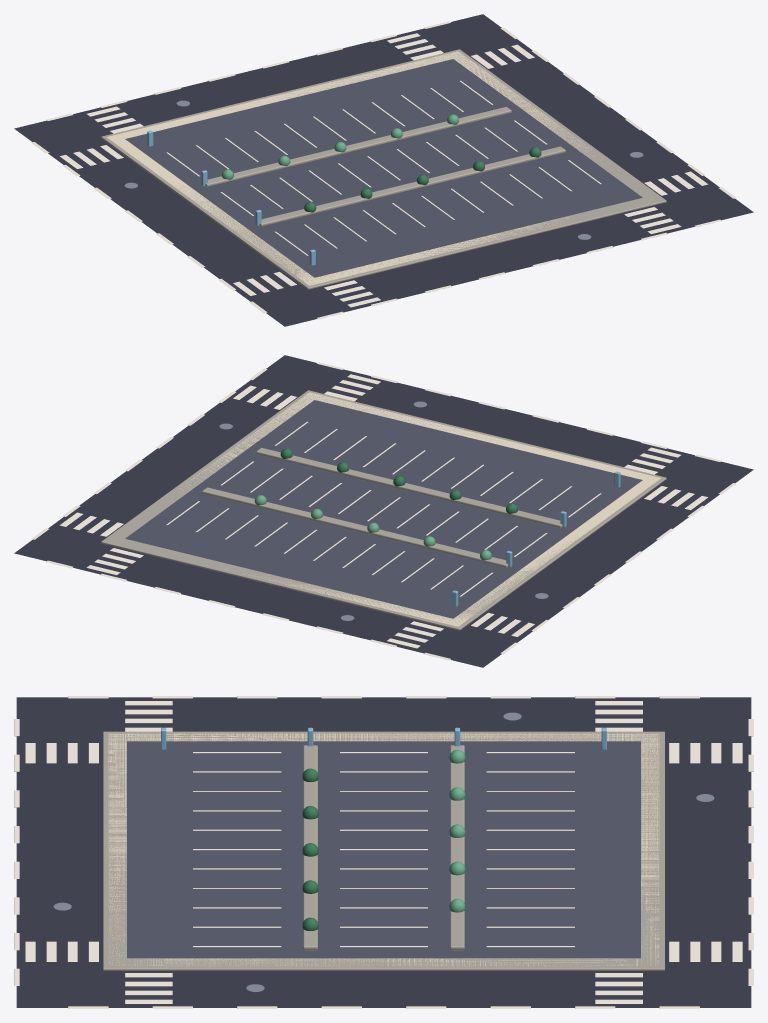
The model's file is tile_parking.glb.
3 renders of one model, top to bottom at view 1: azimuth 30°, elevation 25°; view 2: azimuth 150°, elevation 25°; view 3: azimuth 270°, elevation 25°, orthographic. The views are drawn at different scales.
Visible parts, largest first — view 1: tile_parking; view 2: tile_parking; view 3: tile_parking.
Boxes of the visible parts, x1,y1,x2,y2 form: tile_parking: (14,14,753,326); tile_parking: (14,355,753,667); tile_parking: (14,696,753,1008).
Size of the model in its own units: 40.3 by 1.37 by 40.3.
1 material, 1 textured.
